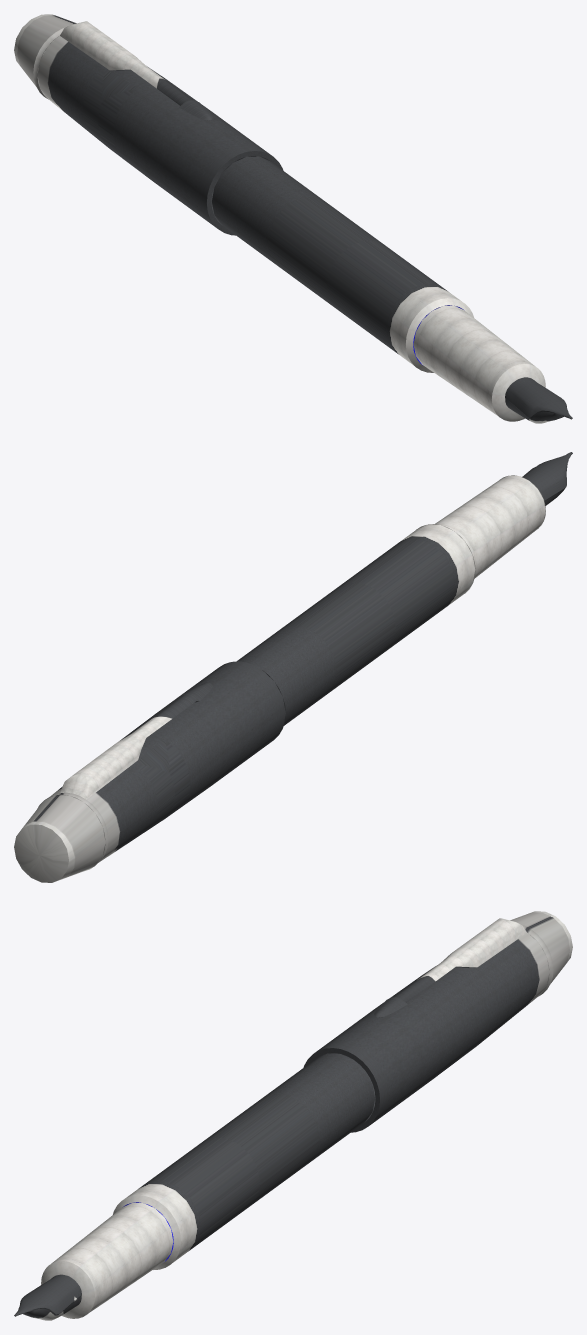
File: ink pen 1.fbx
The picture shows the model from 3 angles, top to bottom: view 1: azimuth 30°, elevation 25°; view 2: azimuth 150°, elevation 25°; view 3: azimuth 330°, elevation 25°; orthographic projection.
Parts seen in each view (by area): view 1: polySurface99, polySurface71, polySurface104, polySurface109, polySurface111, polySurface114, polySurface105, polySurface100; view 2: polySurface99, polySurface71, polySurface104, polySurface109, polySurface114, polySurface113, polySurface111; view 3: polySurface99, polySurface71, polySurface104, polySurface109, polySurface111, polySurface114, polySurface105, polySurface100.
Boxes of the visible parts, left/top/right/bottom form: polySurface99: left=212, top=156, right=461, bottom=365; polySurface71: left=37, top=35, right=271, bottom=228; polySurface104: left=413, top=305, right=535, bottom=415; polySurface109: left=33, top=21, right=192, bottom=105; polySurface111: left=505, top=377, right=572, bottom=423; polySurface114: left=14, top=14, right=76, bottom=85; polySurface105: left=492, top=363, right=545, bottom=421; polySurface100: left=406, top=298, right=473, bottom=372; polySurface99: left=236, top=524, right=475, bottom=725; polySurface71: left=50, top=661, right=285, bottom=862; polySurface104: left=435, top=475, right=545, bottom=578; polySurface109: left=37, top=694, right=198, bottom=870; polySurface114: left=22, top=795, right=105, bottom=881; polySurface113: left=14, top=824, right=68, bottom=882; polySurface111: left=522, top=452, right=572, bottom=505; polySurface99: left=125, top=1053, right=374, bottom=1262; polySurface71: left=315, top=933, right=549, bottom=1124; polySurface104: left=51, top=1202, right=173, bottom=1313; polySurface109: left=394, top=918, right=553, bottom=1002; polySurface111: left=14, top=1274, right=81, bottom=1320; polySurface114: left=510, top=911, right=572, bottom=982; polySurface105: left=41, top=1261, right=94, bottom=1318; polySurface100: left=113, top=1195, right=180, bottom=1269.
Bounding box in the file's own units: 0.8457 × 0.9442 × 9.87.
